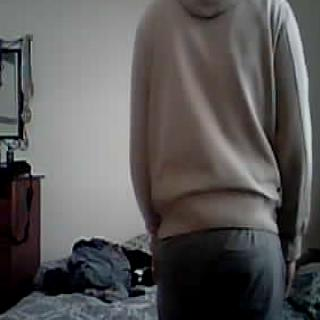Gray Sweatpants: (154, 231, 283, 320)
Yellow Hoodie: (128, 0, 306, 230)
